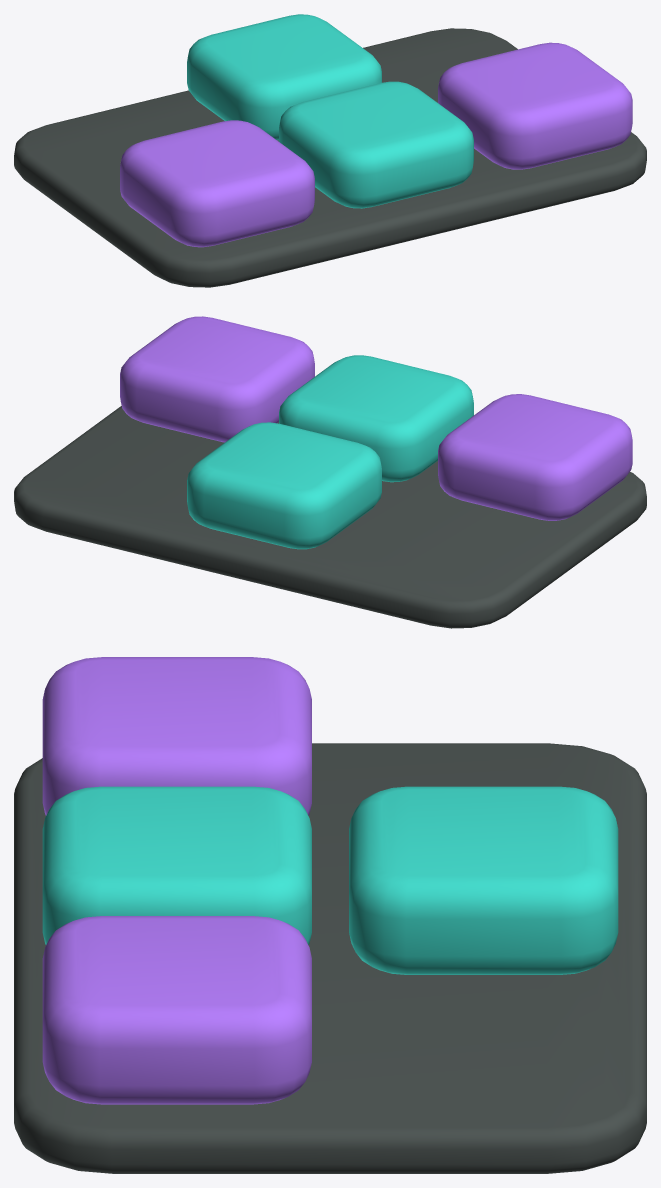
Rendered from arrow_keys.glb.
3 renders of one model, top to bottom at view 1: azimuth 30°, elevation 25°; view 2: azimuth 150°, elevation 25°; view 3: azimuth 270°, elevation 25°, orthographic. The views are drawn at different scales.
Parts seen in each view (by area): view 1: Housing, Cap_right_left, Cap_right_down, Cap_right_right, Cap_right_up; view 2: Housing, Cap_right_up, Cap_right_left, Cap_right_right, Cap_right_down; view 3: Housing, Cap_right_up, Cap_right_right, Cap_right_down, Cap_right_left.
Boxes of the visible parts, x1,y1,x2,y2 form: Housing: [14, 28, 646, 287]; Cap_right_left: [120, 120, 314, 247]; Cap_right_down: [279, 81, 473, 208]; Cap_right_right: [438, 42, 632, 169]; Cap_right_up: [187, 14, 381, 140]; Housing: [14, 406, 646, 628]; Cap_right_up: [187, 422, 381, 549]; Cap_right_left: [438, 394, 632, 520]; Cap_right_right: [120, 316, 314, 442]; Cap_right_down: [279, 355, 473, 482]; Housing: [14, 743, 646, 1173]; Cap_right_up: [349, 786, 618, 974]; Cap_right_right: [42, 916, 311, 1104]; Cap_right_down: [42, 786, 311, 944]; Cap_right_left: [42, 657, 311, 815].
Size of the model in its own units: 0.23 by 0.04 by 0.155.
